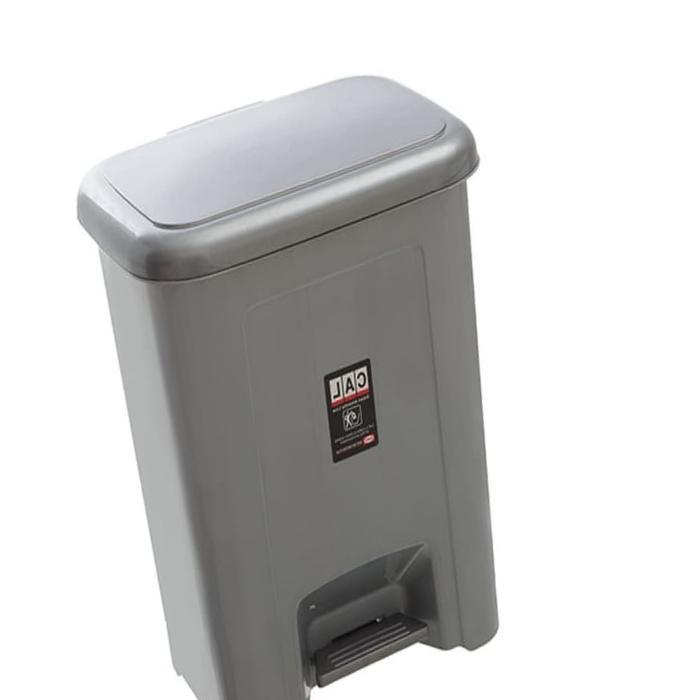Bote de Basura: (74, 73, 505, 699)
